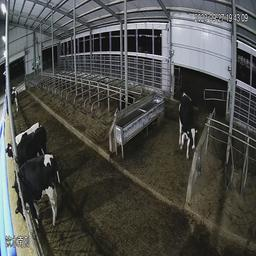cow: (9, 154, 63, 220), (175, 91, 200, 173), (5, 128, 50, 158), (5, 86, 22, 112)
